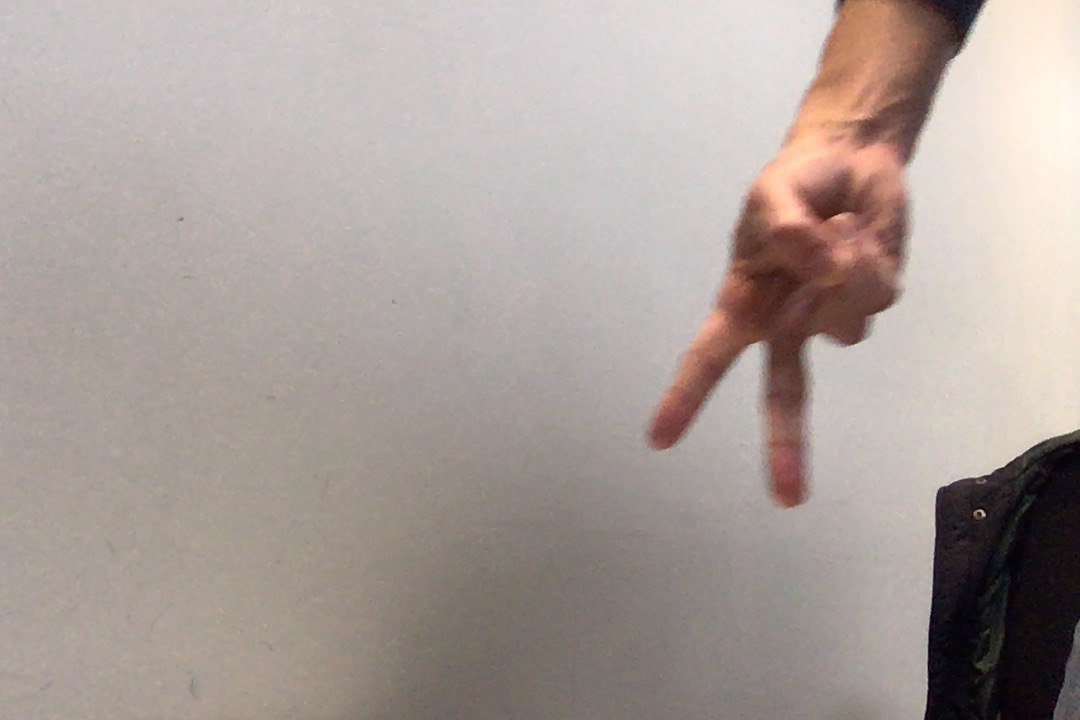peacesign: (640, 151, 913, 512)
